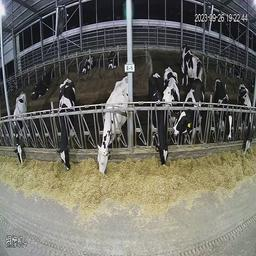cow: (98, 73, 129, 175), (146, 72, 168, 170), (173, 84, 205, 145), (58, 78, 76, 172), (214, 76, 233, 147), (12, 90, 29, 165), (237, 83, 253, 157), (180, 44, 203, 89), (163, 66, 179, 127), (32, 70, 54, 99), (105, 49, 119, 69), (83, 57, 95, 74)
